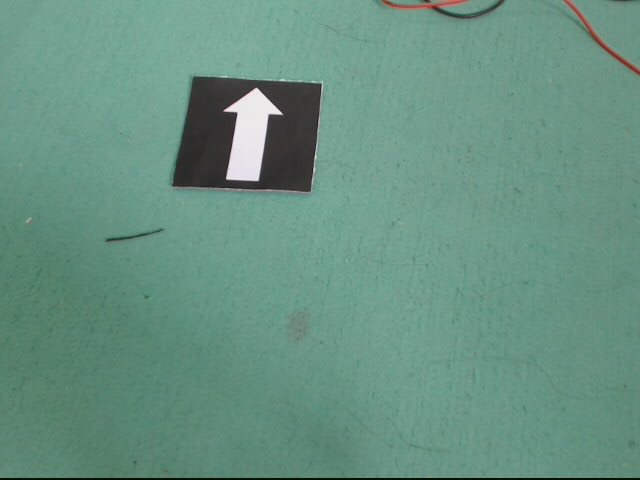straight: (171, 75, 321, 192)
